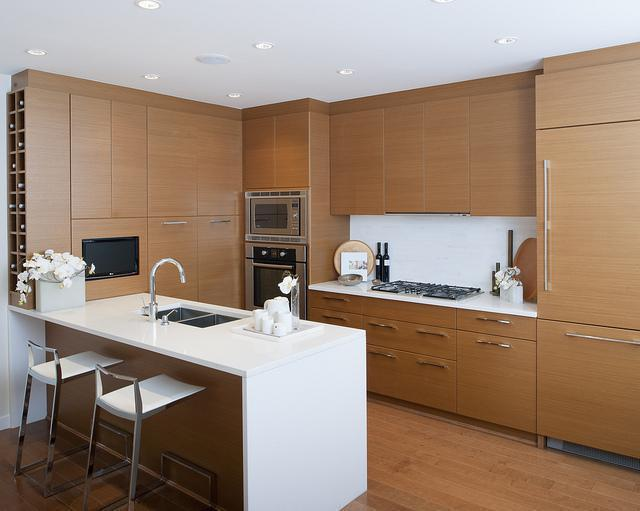Lavaplatos: (139, 250, 264, 336)
